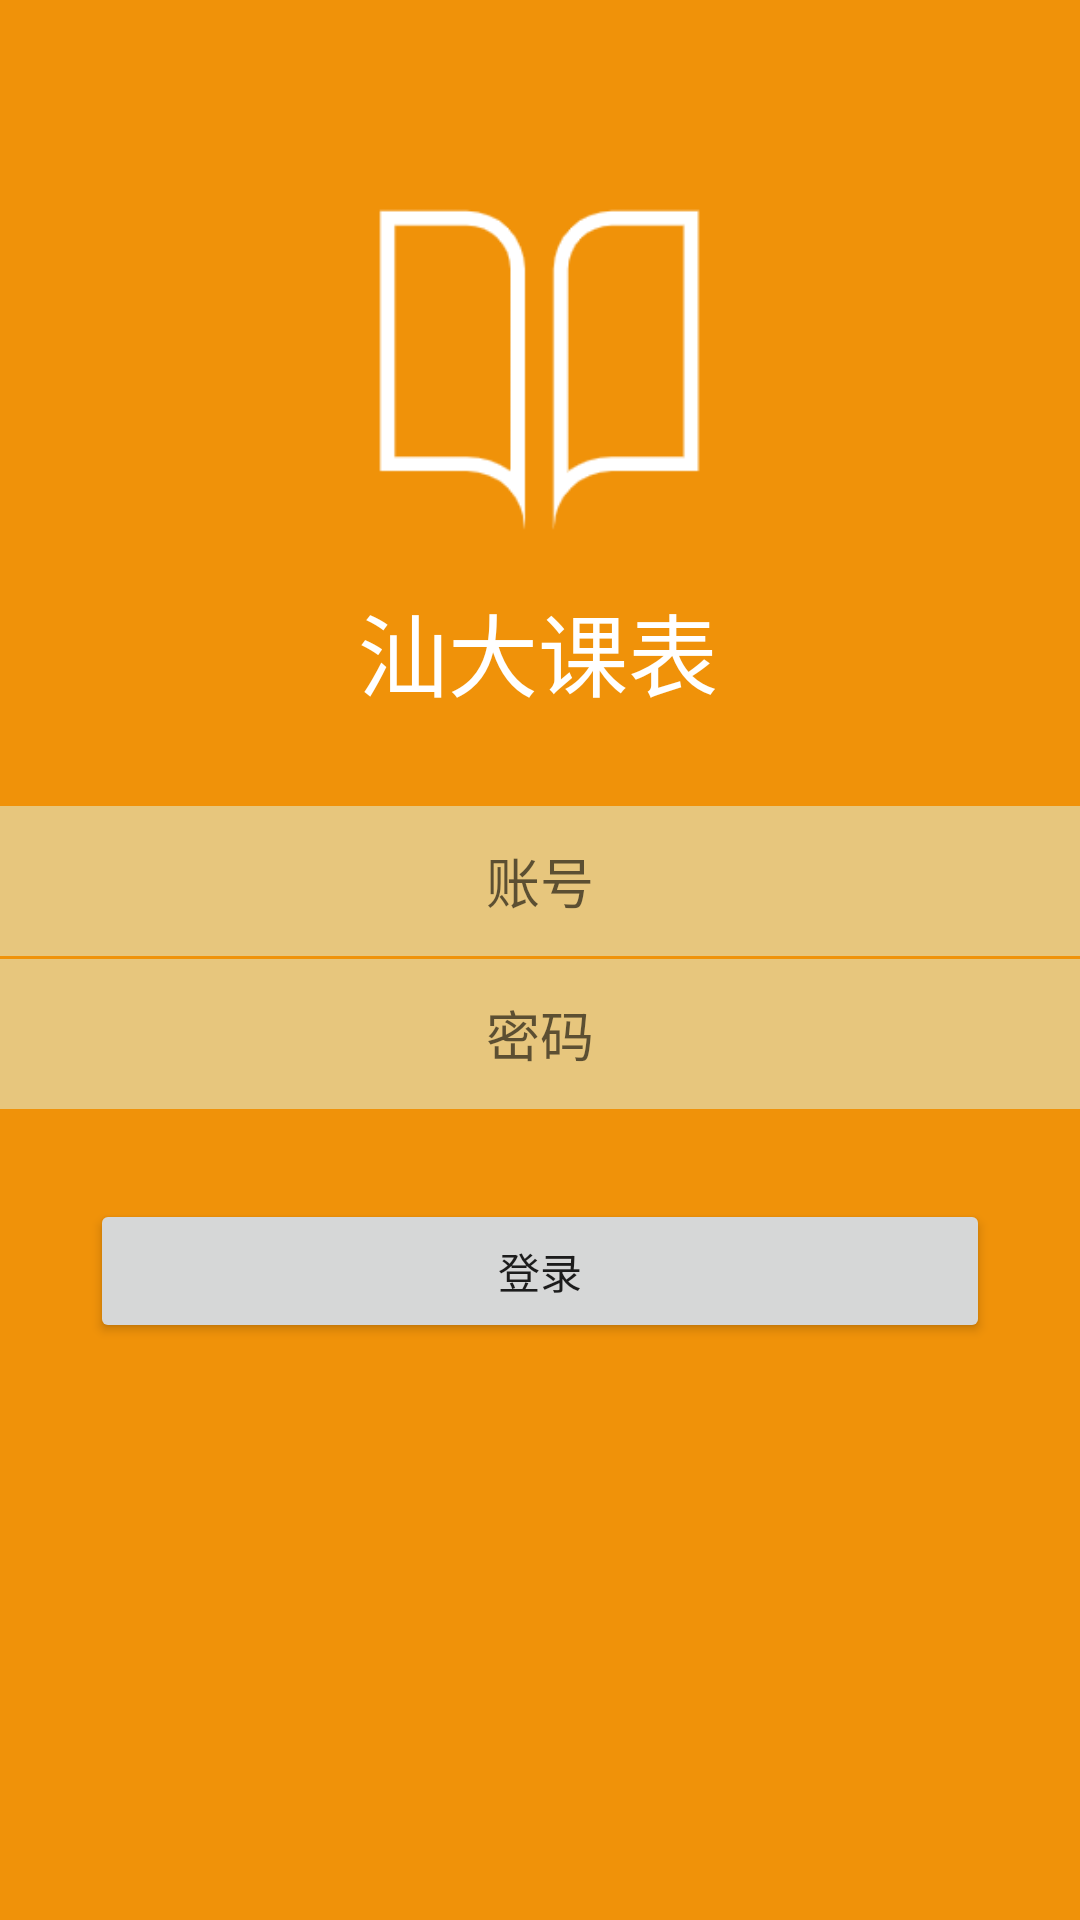

Where to tap for icons on this 1080px x 1920px app screen, as [x,y]:
book: [539,368]
